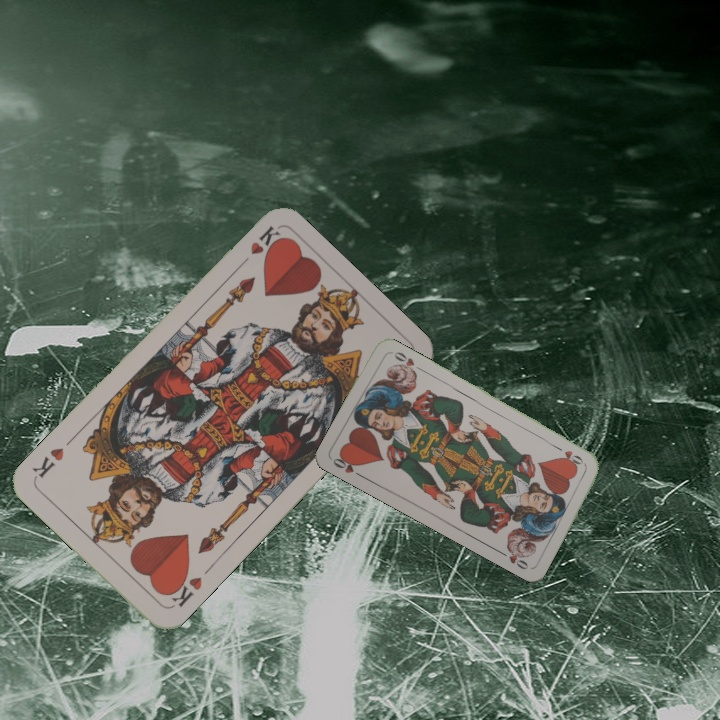HK: (233, 222, 283, 271), (162, 568, 205, 610)
HO: (329, 451, 366, 480), (551, 441, 588, 467)
